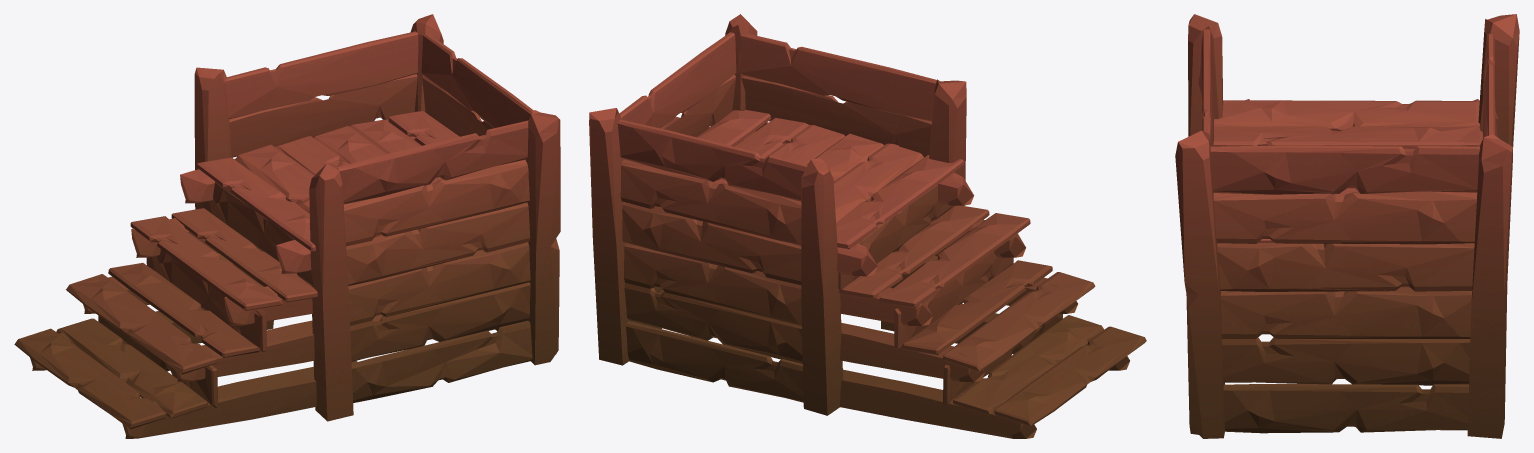
The picture shows the model from 3 angles, left to right: view 1: azimuth 30°, elevation 25°; view 2: azimuth 150°, elevation 25°; view 3: azimuth 270°, elevation 25°; orthographic projection. The views are drawn at different scales.
Visible parts, largest first — view 1: WoodenWall_TowerShort; view 2: WoodenWall_TowerShort; view 3: WoodenWall_TowerShort.
Boxes of the visible parts, x1=… form: WoodenWall_TowerShort: x1=14, y1=14, x2=560, y2=438; WoodenWall_TowerShort: x1=589, y1=14, x2=1146, y2=438; WoodenWall_TowerShort: x1=1175, y1=14, x2=1519, y2=438.
Bounding box in the file's own units: 60 × 33.61 × 34.66.
Materials: 1 (1 with a texture image).
